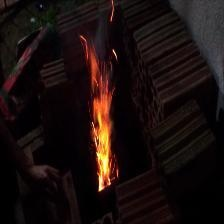fire: (76, 27, 139, 205)
